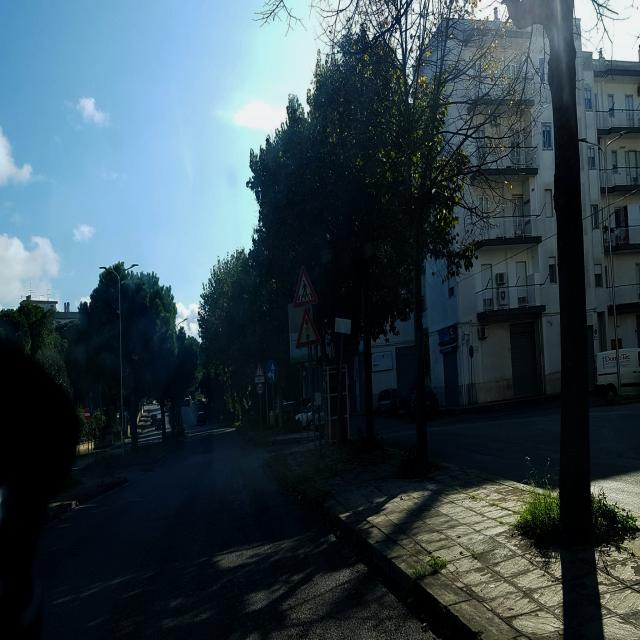car: (594, 346, 640, 402), (408, 384, 440, 421), (376, 387, 398, 416), (302, 401, 322, 428), (196, 408, 206, 425)
